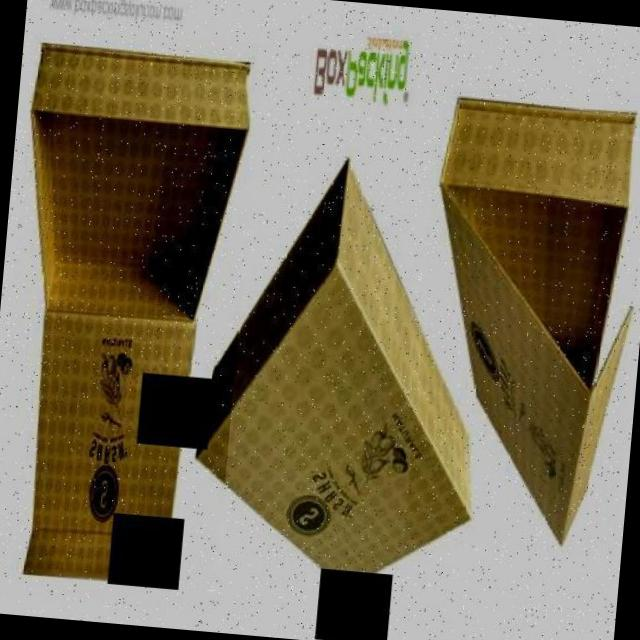box: (0, 26, 263, 613), (186, 146, 509, 606), (403, 76, 640, 557)
